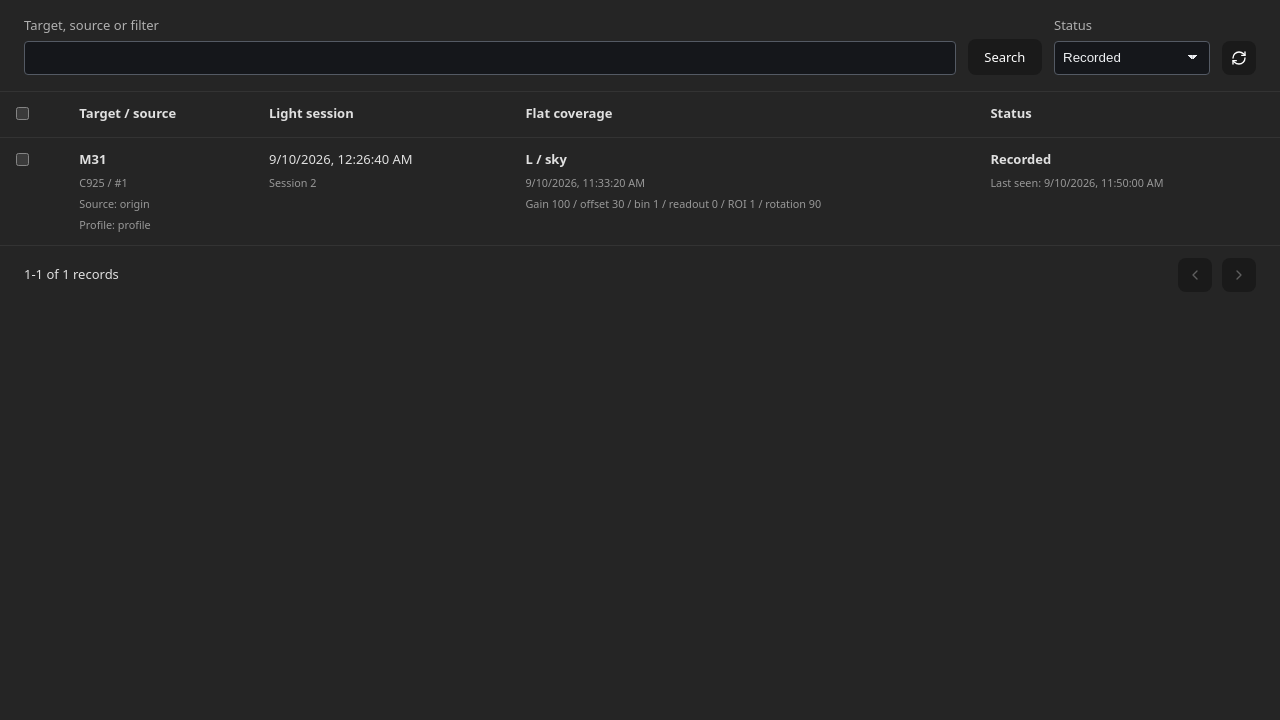
Test: scheduler flat coverage › shows failed invalidation and preserves the selection and reason for retry
Click the checkbox named "Select coverage 1 for M31" at (22, 160), box [16,153,29,166]
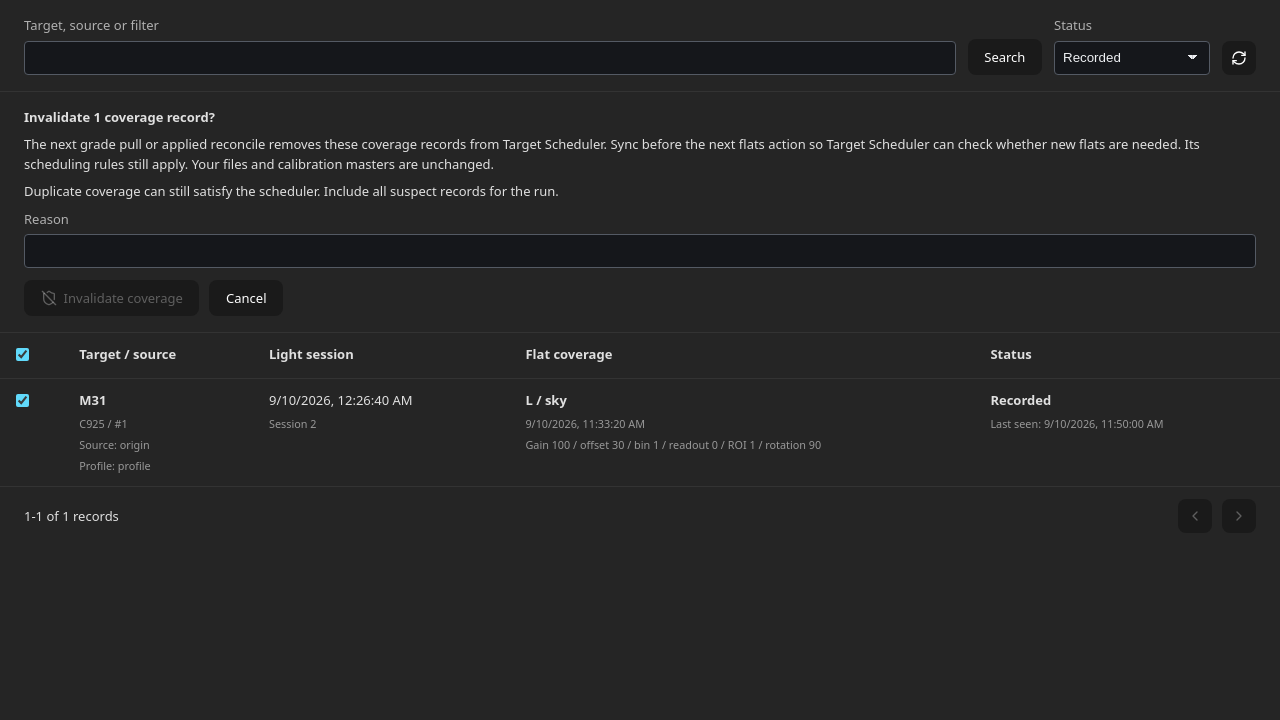
Type "Bad flats" into the field labelled "Reason" at (640, 251), box [24,234,1256,268]
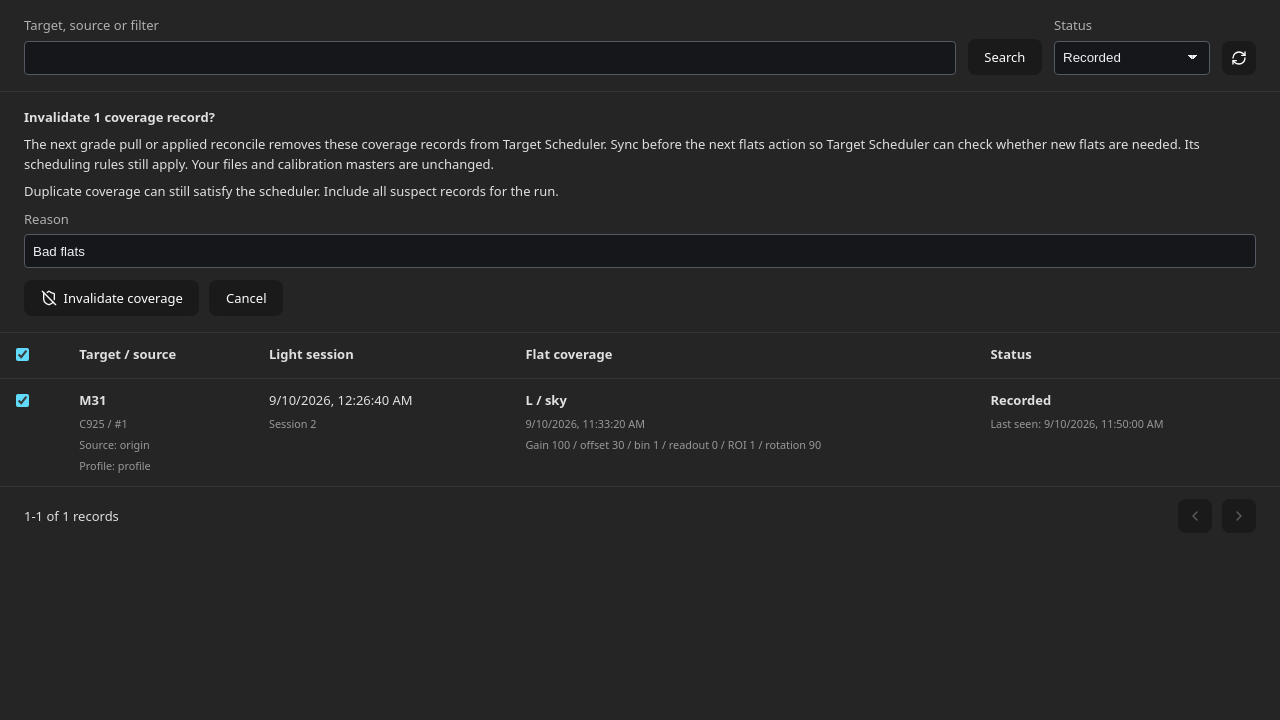
Click the button "Invalidate coverage" at (112, 298), box [24,280,199,316]
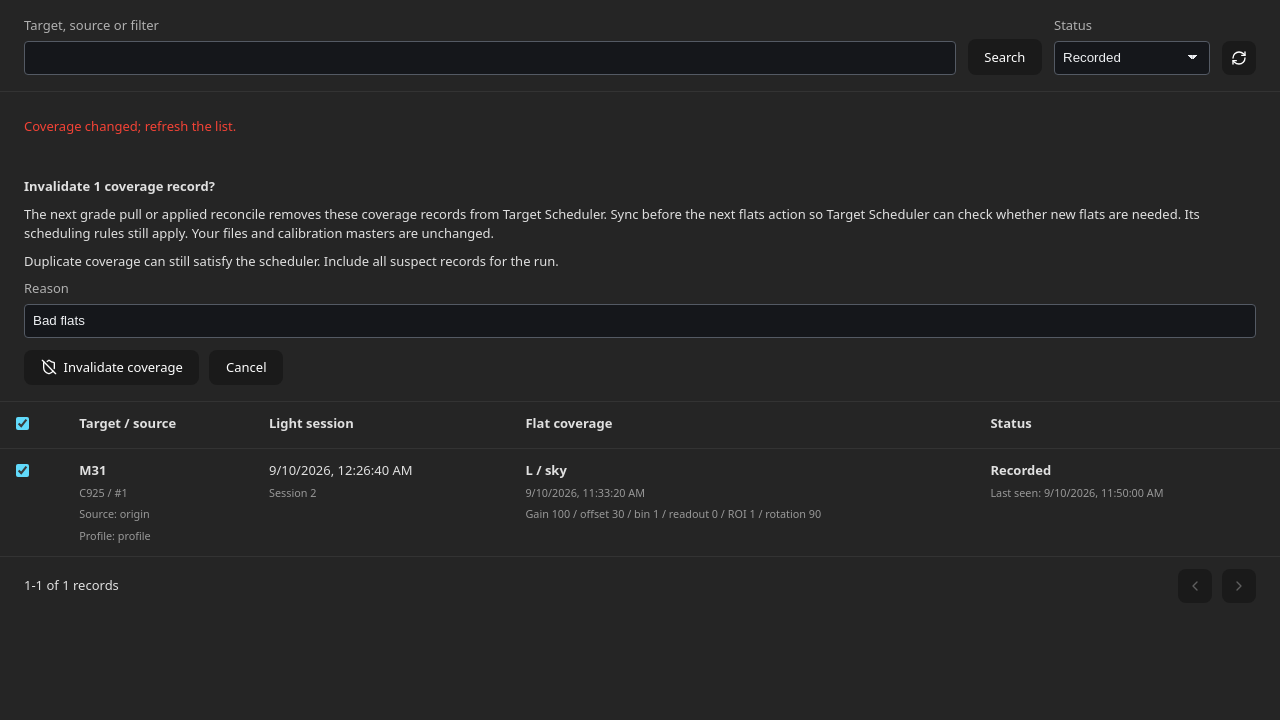
Now the checkbox named "Select coverage 1 for M31" is checked, box [16,464,29,477]
Now the message reads "Coverage changed; refresh the list.", box [24,116,236,134]
